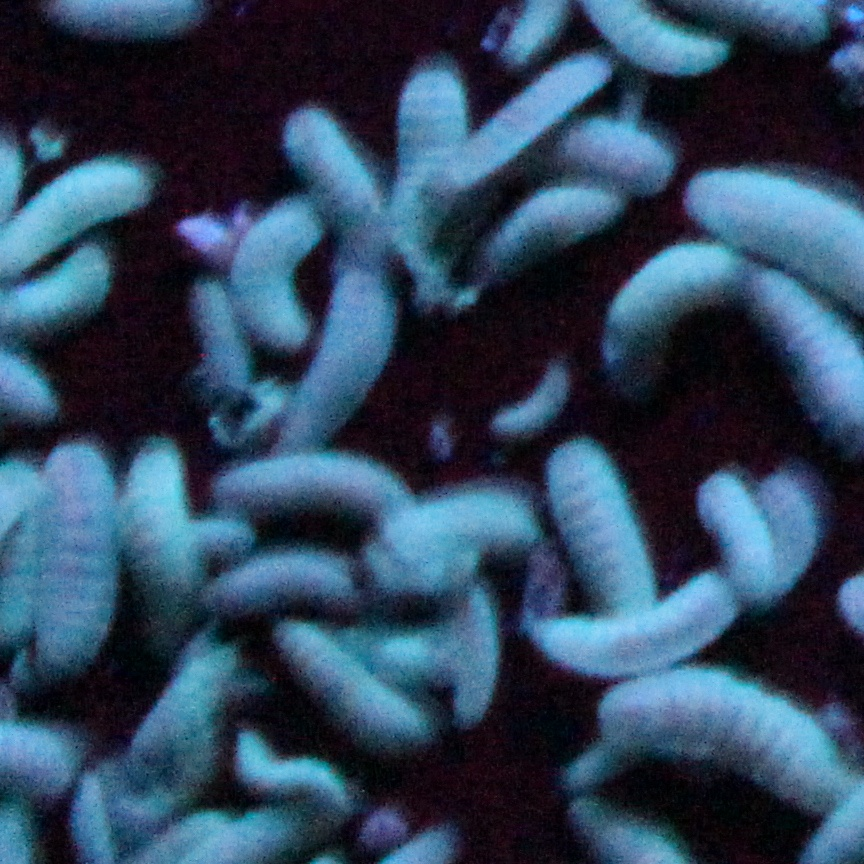larve: (597, 671, 846, 812), (533, 567, 734, 675), (276, 272, 393, 454), (449, 54, 605, 182), (548, 441, 654, 618), (120, 443, 204, 656), (279, 622, 431, 739), (40, 446, 118, 671), (602, 242, 738, 368), (1, 157, 148, 270), (284, 111, 388, 260), (232, 205, 322, 352), (211, 456, 406, 516), (483, 188, 615, 274), (134, 657, 228, 772), (701, 475, 776, 602), (204, 561, 361, 620), (233, 729, 348, 809), (381, 492, 542, 549), (397, 72, 462, 204), (565, 121, 671, 192), (189, 283, 252, 401), (758, 476, 813, 593), (489, 363, 568, 431), (457, 595, 497, 719), (371, 547, 479, 586), (382, 629, 462, 677), (562, 739, 625, 788), (110, 784, 176, 825)
